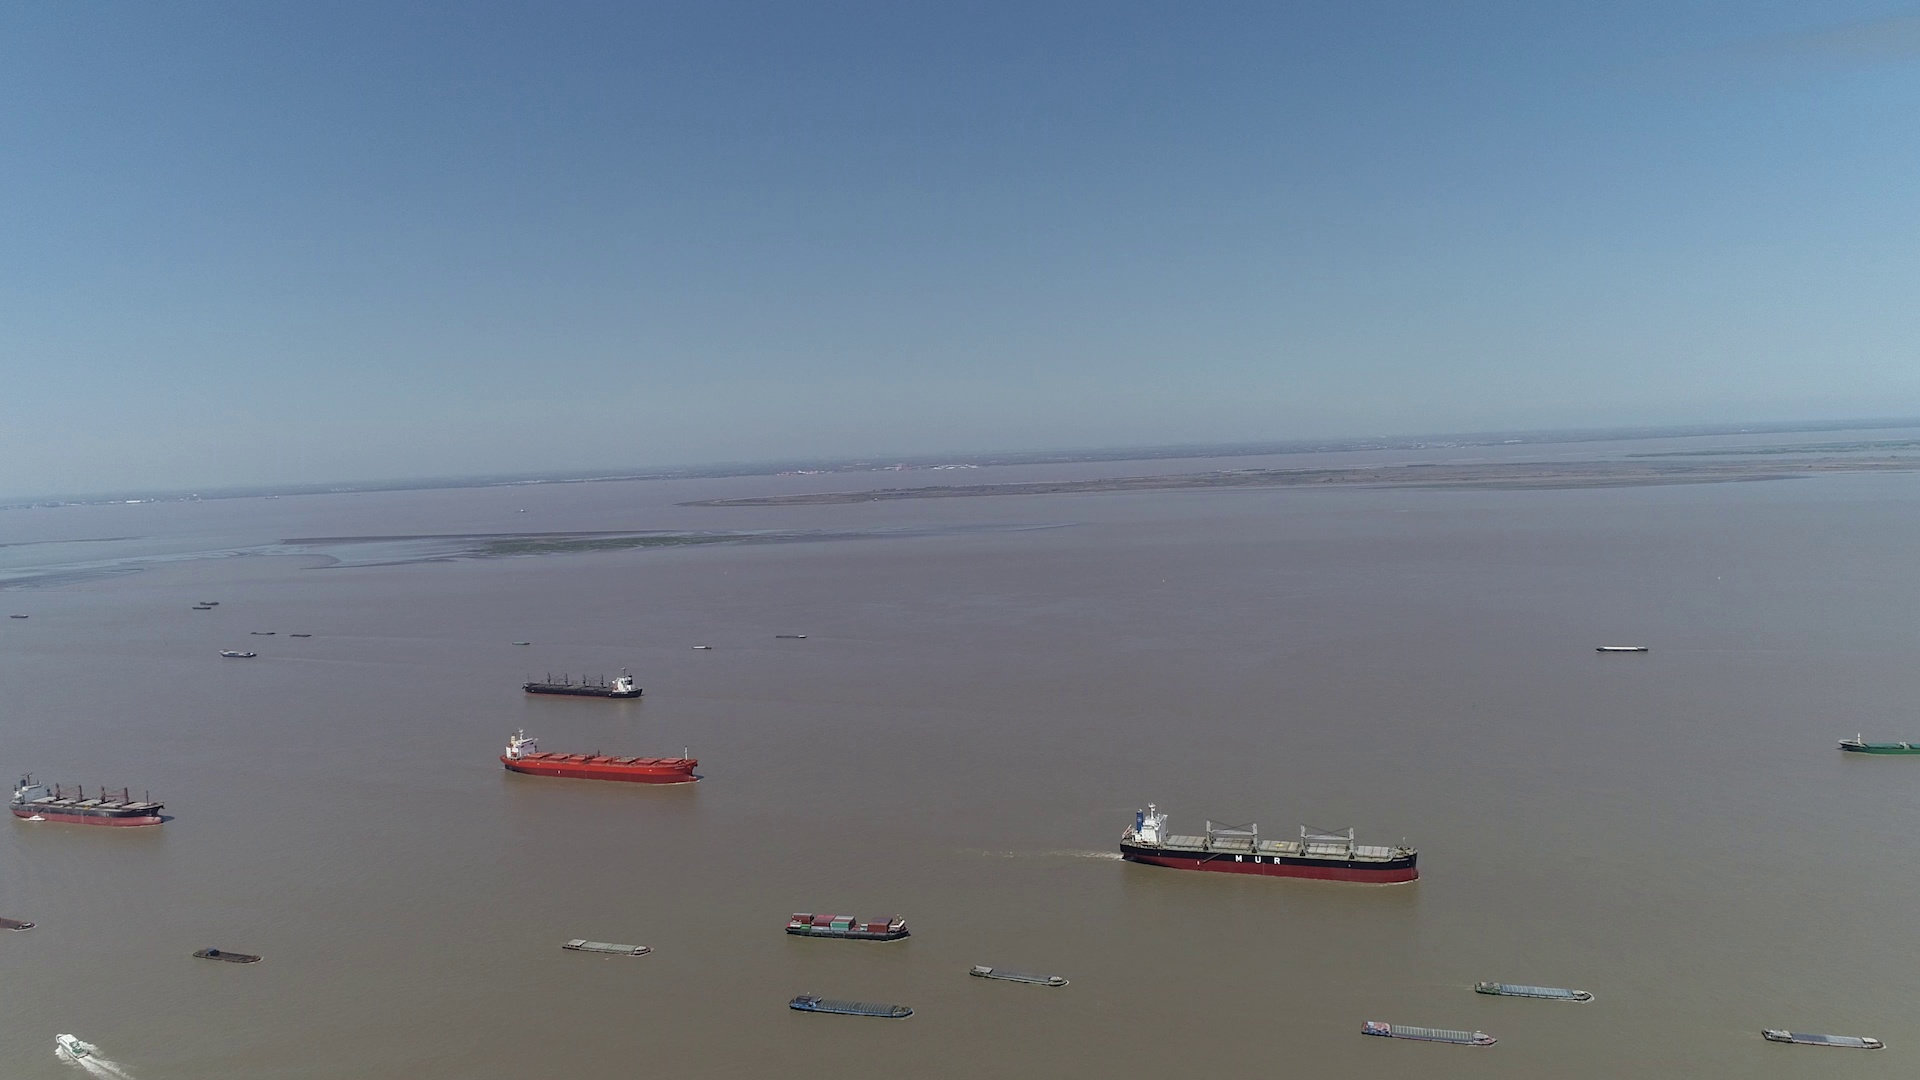ship: (1117, 803, 1419, 885), (497, 729, 702, 785), (15, 773, 164, 827), (787, 910, 909, 942), (1358, 1018, 1494, 1046), (524, 669, 644, 699), (1760, 1025, 1884, 1050), (789, 993, 910, 1017), (1476, 980, 1593, 1004), (968, 964, 1069, 988), (1838, 731, 1919, 756), (562, 938, 653, 957), (190, 947, 262, 963), (53, 1036, 95, 1058), (0, 916, 33, 932), (1596, 644, 1648, 653), (218, 649, 258, 659)
